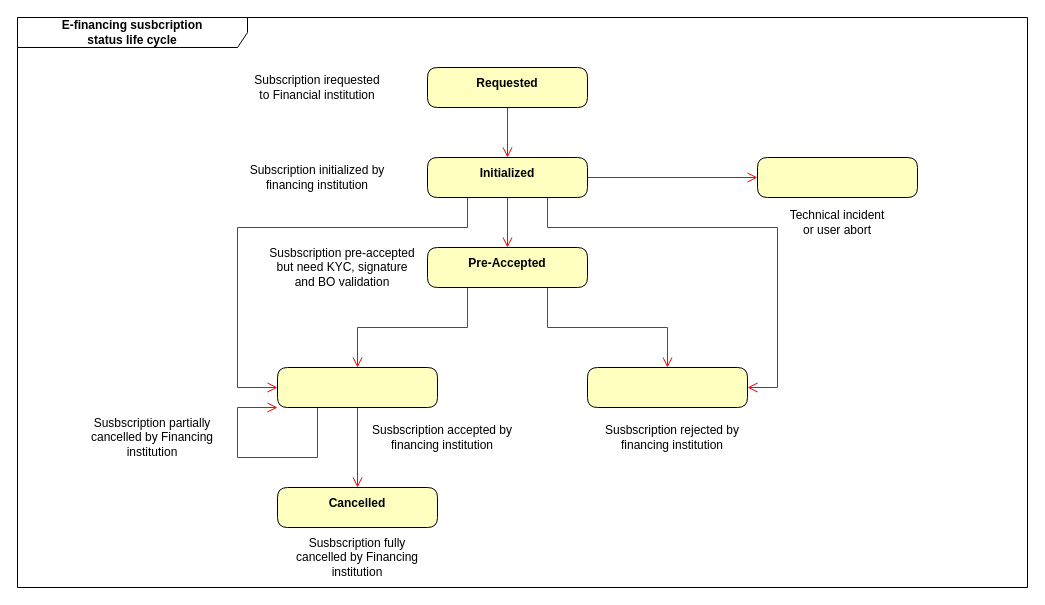
Image size: 1045x605. Some labels were removed from this diagram. The shapes that lost their labels are listed below. From the top down, each one's centre as x and y in pixels, then its label:
(837,177): Aborted
(357,387): Accepted
(667,387): Rejected
